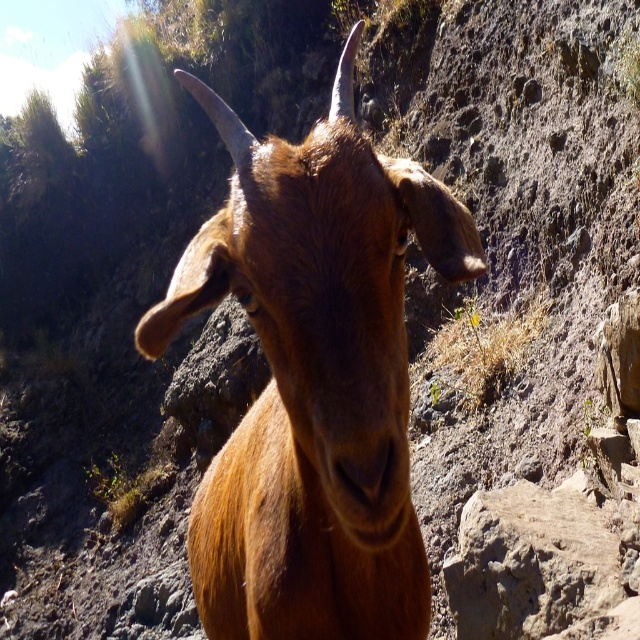Goat: (136, 18, 490, 639)
